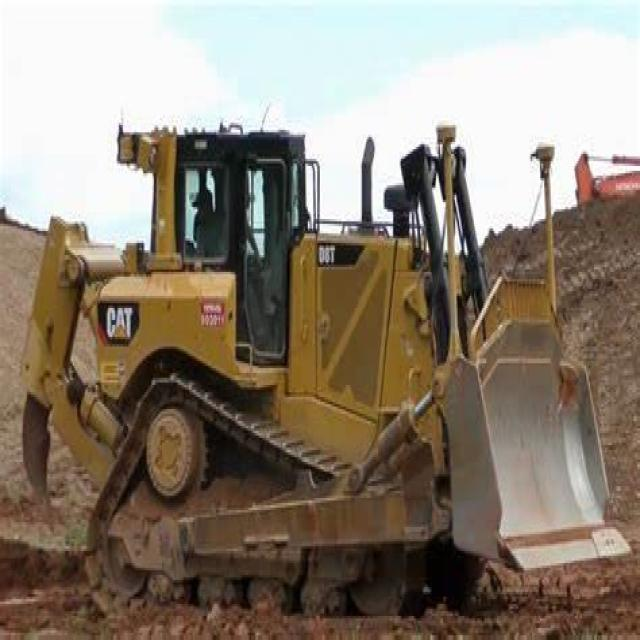buldozerpayloadergrader: (20, 89, 625, 618)
